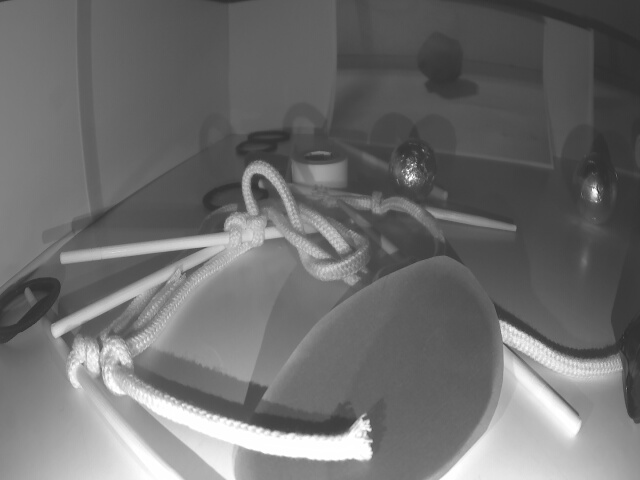Live: (391, 138, 439, 202), (575, 153, 619, 221)
